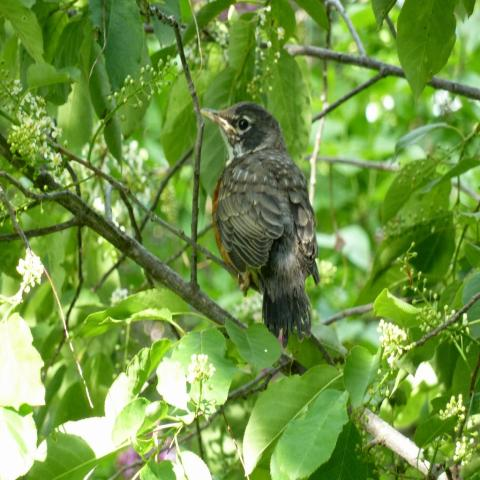bird: (198, 98, 322, 349)
